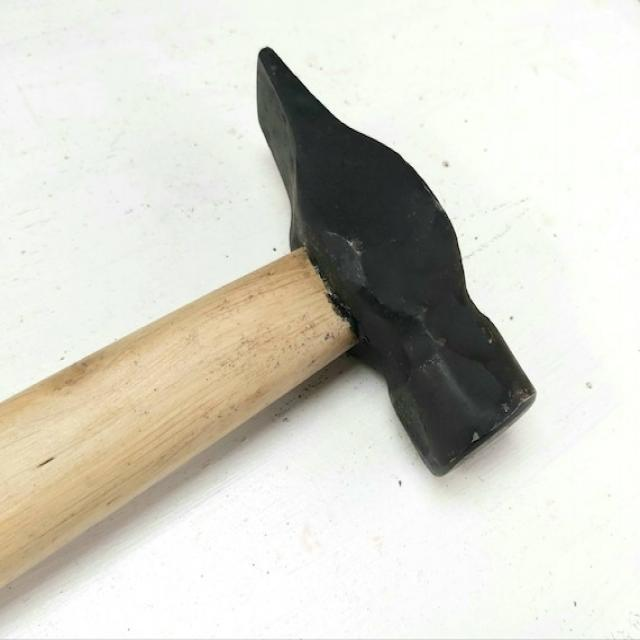hammer: (0, 42, 550, 588)
